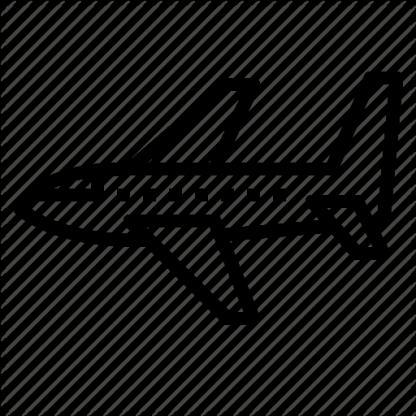CIV_Plane: (4, 68, 410, 344)
